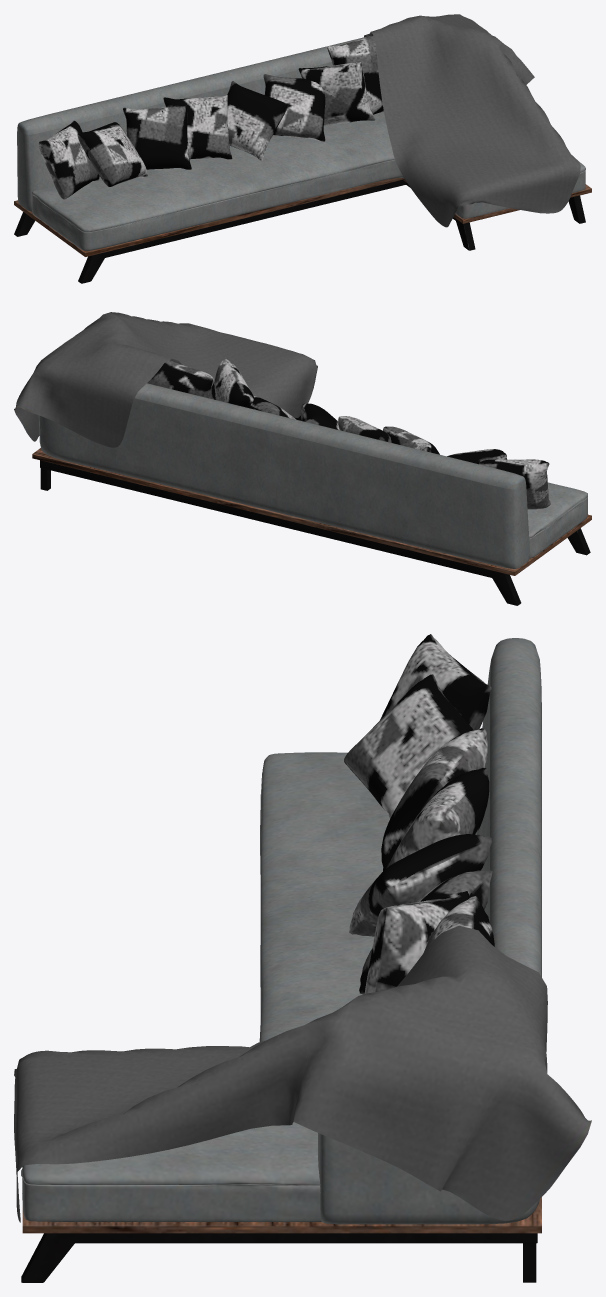
Rendered from Sofa.fbx.
3 views of the same model, one above another, from view 1: azimuth 30°, elevation 25°; view 2: azimuth 150°, elevation 25°; view 3: azimuth 270°, elevation 25° (orthographic). The views are drawn at different scales.
Visible parts, largest first — view 1: Plane.012, Plane.001, Plane.002, Plane.005, Plane.007, Plane.011, Plane.010, Plane.006, Plane.004, Cube.020, Plane.003, Plane (+2 smaller); view 2: Plane.002, Plane.012, Cube.021, Plane, Plane.001, Plane.003, Plane.009, Plane.010, Plane.006, Plane.005, Plane.007, Plane.004 (+1 smaller); view 3: Plane.012, Plane.001, Plane.002, Plane.004, Cube.021, Plane, Plane.007, Plane.010, Plane.006, Plane.005, Plane.003, Plane.011 (+1 smaller).
Boxes of the visible parts, bbox=[...] form: Plane.012: bbox=[364, 14, 580, 227]; Plane.001: bbox=[32, 111, 585, 250]; Plane.002: bbox=[17, 35, 371, 211]; Plane.005: bbox=[123, 105, 191, 169]; Plane.007: bbox=[227, 81, 288, 160]; Plane.011: bbox=[263, 74, 325, 141]; Plane.010: bbox=[298, 61, 375, 125]; Plane.006: bbox=[163, 95, 232, 159]; Plane.004: bbox=[77, 122, 147, 186]; Cube.020: bbox=[78, 180, 475, 283]; Plane.003: bbox=[39, 120, 99, 199]; Plane: bbox=[14, 178, 591, 256]; Plane.002: bbox=[38, 383, 529, 568]; Plane.012: bbox=[14, 312, 317, 447]; Cube.021: bbox=[40, 460, 521, 605]; Plane: bbox=[32, 387, 591, 575]; Plane.001: bbox=[527, 482, 587, 558]; Plane.003: bbox=[479, 459, 550, 509]; Plane.009: bbox=[147, 360, 215, 399]; Plane.010: bbox=[214, 358, 253, 407]; Plane.006: bbox=[338, 416, 391, 442]; Plane.005: bbox=[383, 426, 439, 454]; Plane.007: bbox=[300, 403, 339, 429]; Plane.004: bbox=[447, 449, 507, 464]; Plane.012: bbox=[14, 925, 591, 1222]; Plane.001: bbox=[22, 752, 476, 1221]; Plane.002: bbox=[318, 638, 541, 1224]; Plane.004: bbox=[344, 674, 473, 818]; Cube.021: bbox=[21, 1233, 537, 1282]; Plane: bbox=[22, 1197, 541, 1233]; Plane.007: bbox=[349, 834, 492, 936]; Plane.010: bbox=[364, 891, 469, 993]; Plane.006: bbox=[388, 767, 489, 866]; Plane.005: bbox=[381, 728, 487, 871]; Plane.003: bbox=[380, 634, 491, 730]; Plane.011: bbox=[359, 870, 492, 994].
Bounding box in the file's own units: 339 × 93.94 × 185.
1 material, 1 textured.
